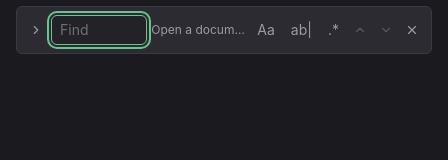
Test case: FindBar (F-3.10) › shows and hides the replace row
Click the button named "Toggle replace". click: [36, 30]
box: [25,19,47,41]
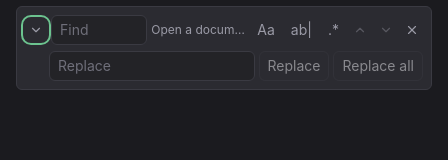
Expected: the field named "Replace with" is shown, [49,51,254,81]
